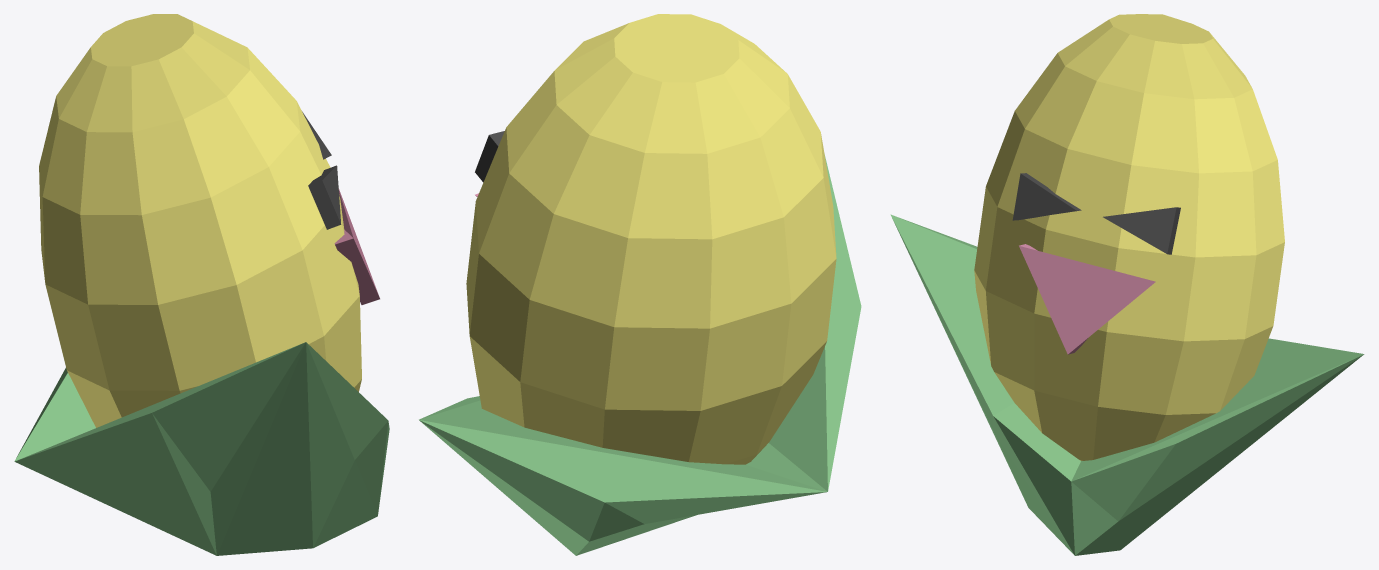
File: corn_laugh.fbx
3 views of the same model, side by side, from view 1: azimuth 30°, elevation 25°; view 2: azimuth 150°, elevation 25°; view 3: azimuth 270°, elevation 25° (orthographic). The views are drawn at different scales.
Parts seen in each view (by area): view 1: corn_laughing; view 2: corn_laughing; view 3: corn_laughing.
Boxes of the visible parts, x1,y1,x2,y2 form: corn_laughing: (14,14,389,555); corn_laughing: (419,14,861,555); corn_laughing: (890,14,1364,555).
Size of the model in its own units: 14.61 by 22.33 by 19.86.
